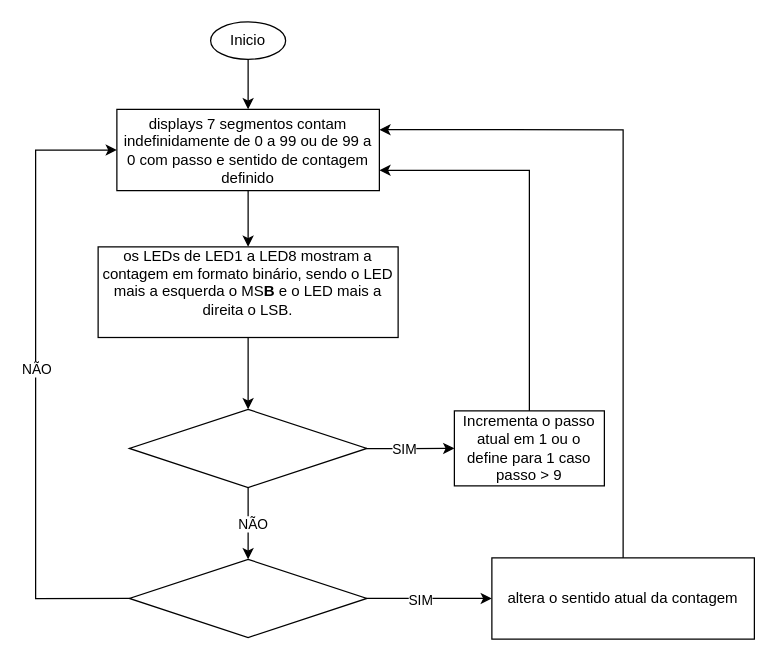
Some shapes in this 776 by 661 pixel diagram are drawn without their labels. Here are the shapes that lost their labels. From the top down, the box of each, then its label:
(128, 408, 367, 488): USR_SW1 pressionado ?
(128, 558, 367, 638): USR_SW2 pressionado ?
